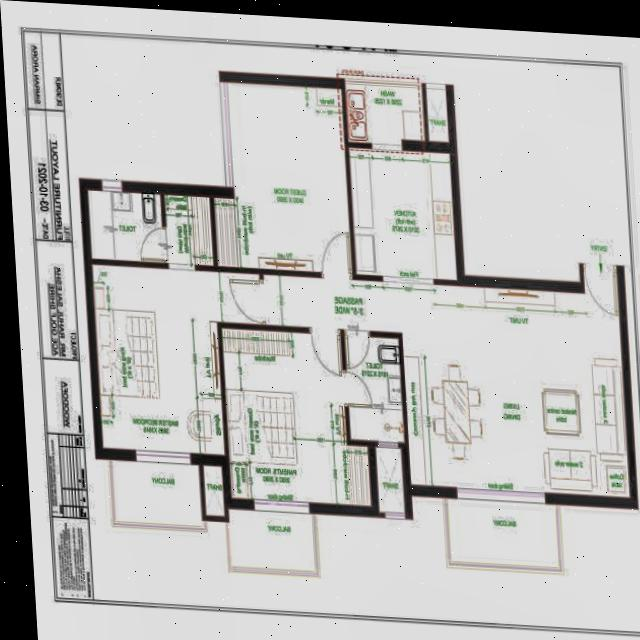room: (486, 282, 630, 503), (222, 321, 371, 513), (213, 86, 359, 273), (91, 258, 223, 461), (344, 78, 456, 284), (405, 331, 493, 493), (85, 190, 218, 265), (443, 501, 565, 567), (107, 458, 207, 528), (344, 333, 404, 446), (224, 509, 320, 571), (375, 446, 404, 514)
